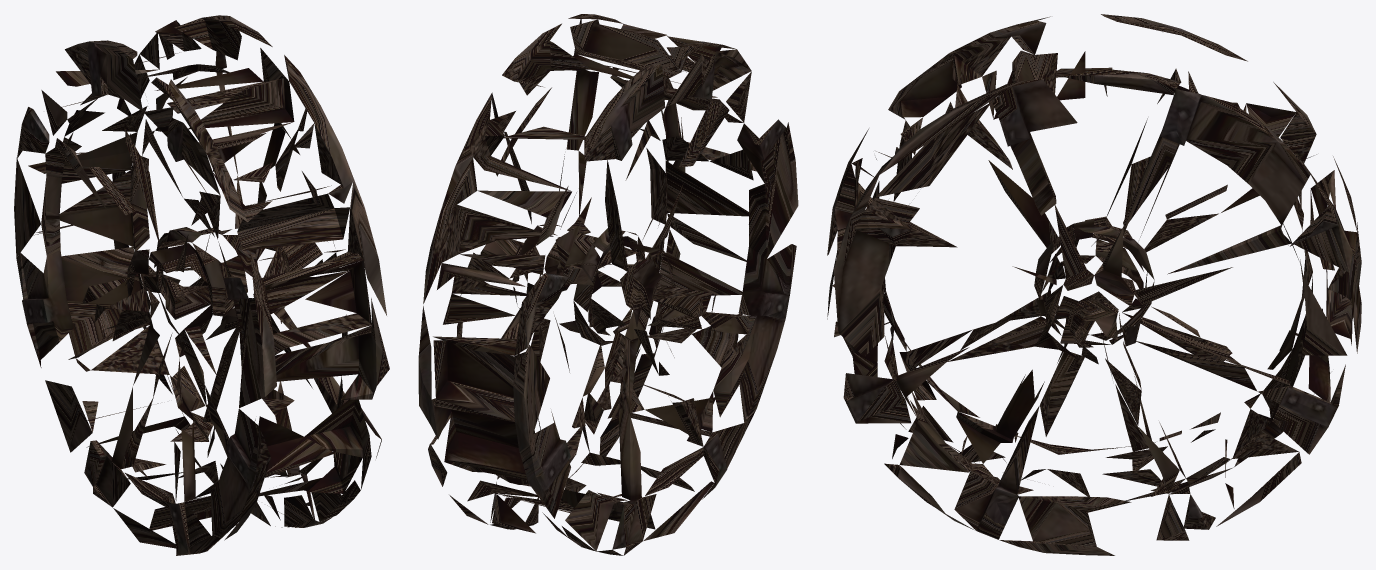
File: prp_waterwheel_a_LOD1.glb
The picture shows the model from 3 angles, left to right: view 1: azimuth 30°, elevation 25°; view 2: azimuth 150°, elevation 25°; view 3: azimuth 270°, elevation 25°; orthographic projection.
Parts seen in each view (by area): view 1: geometry_0; view 2: geometry_0; view 3: geometry_0.
Boxes of the visible parts, x1=… form: geometry_0: x1=14, y1=15, x2=389, y2=555; geometry_0: x1=418, y1=14, x2=798, y2=555; geometry_0: x1=827, y1=14, x2=1361, y2=555.
Size of the model in its own units: 2.07 by 4 by 4.
Materials: 1 (1 with a texture image).
